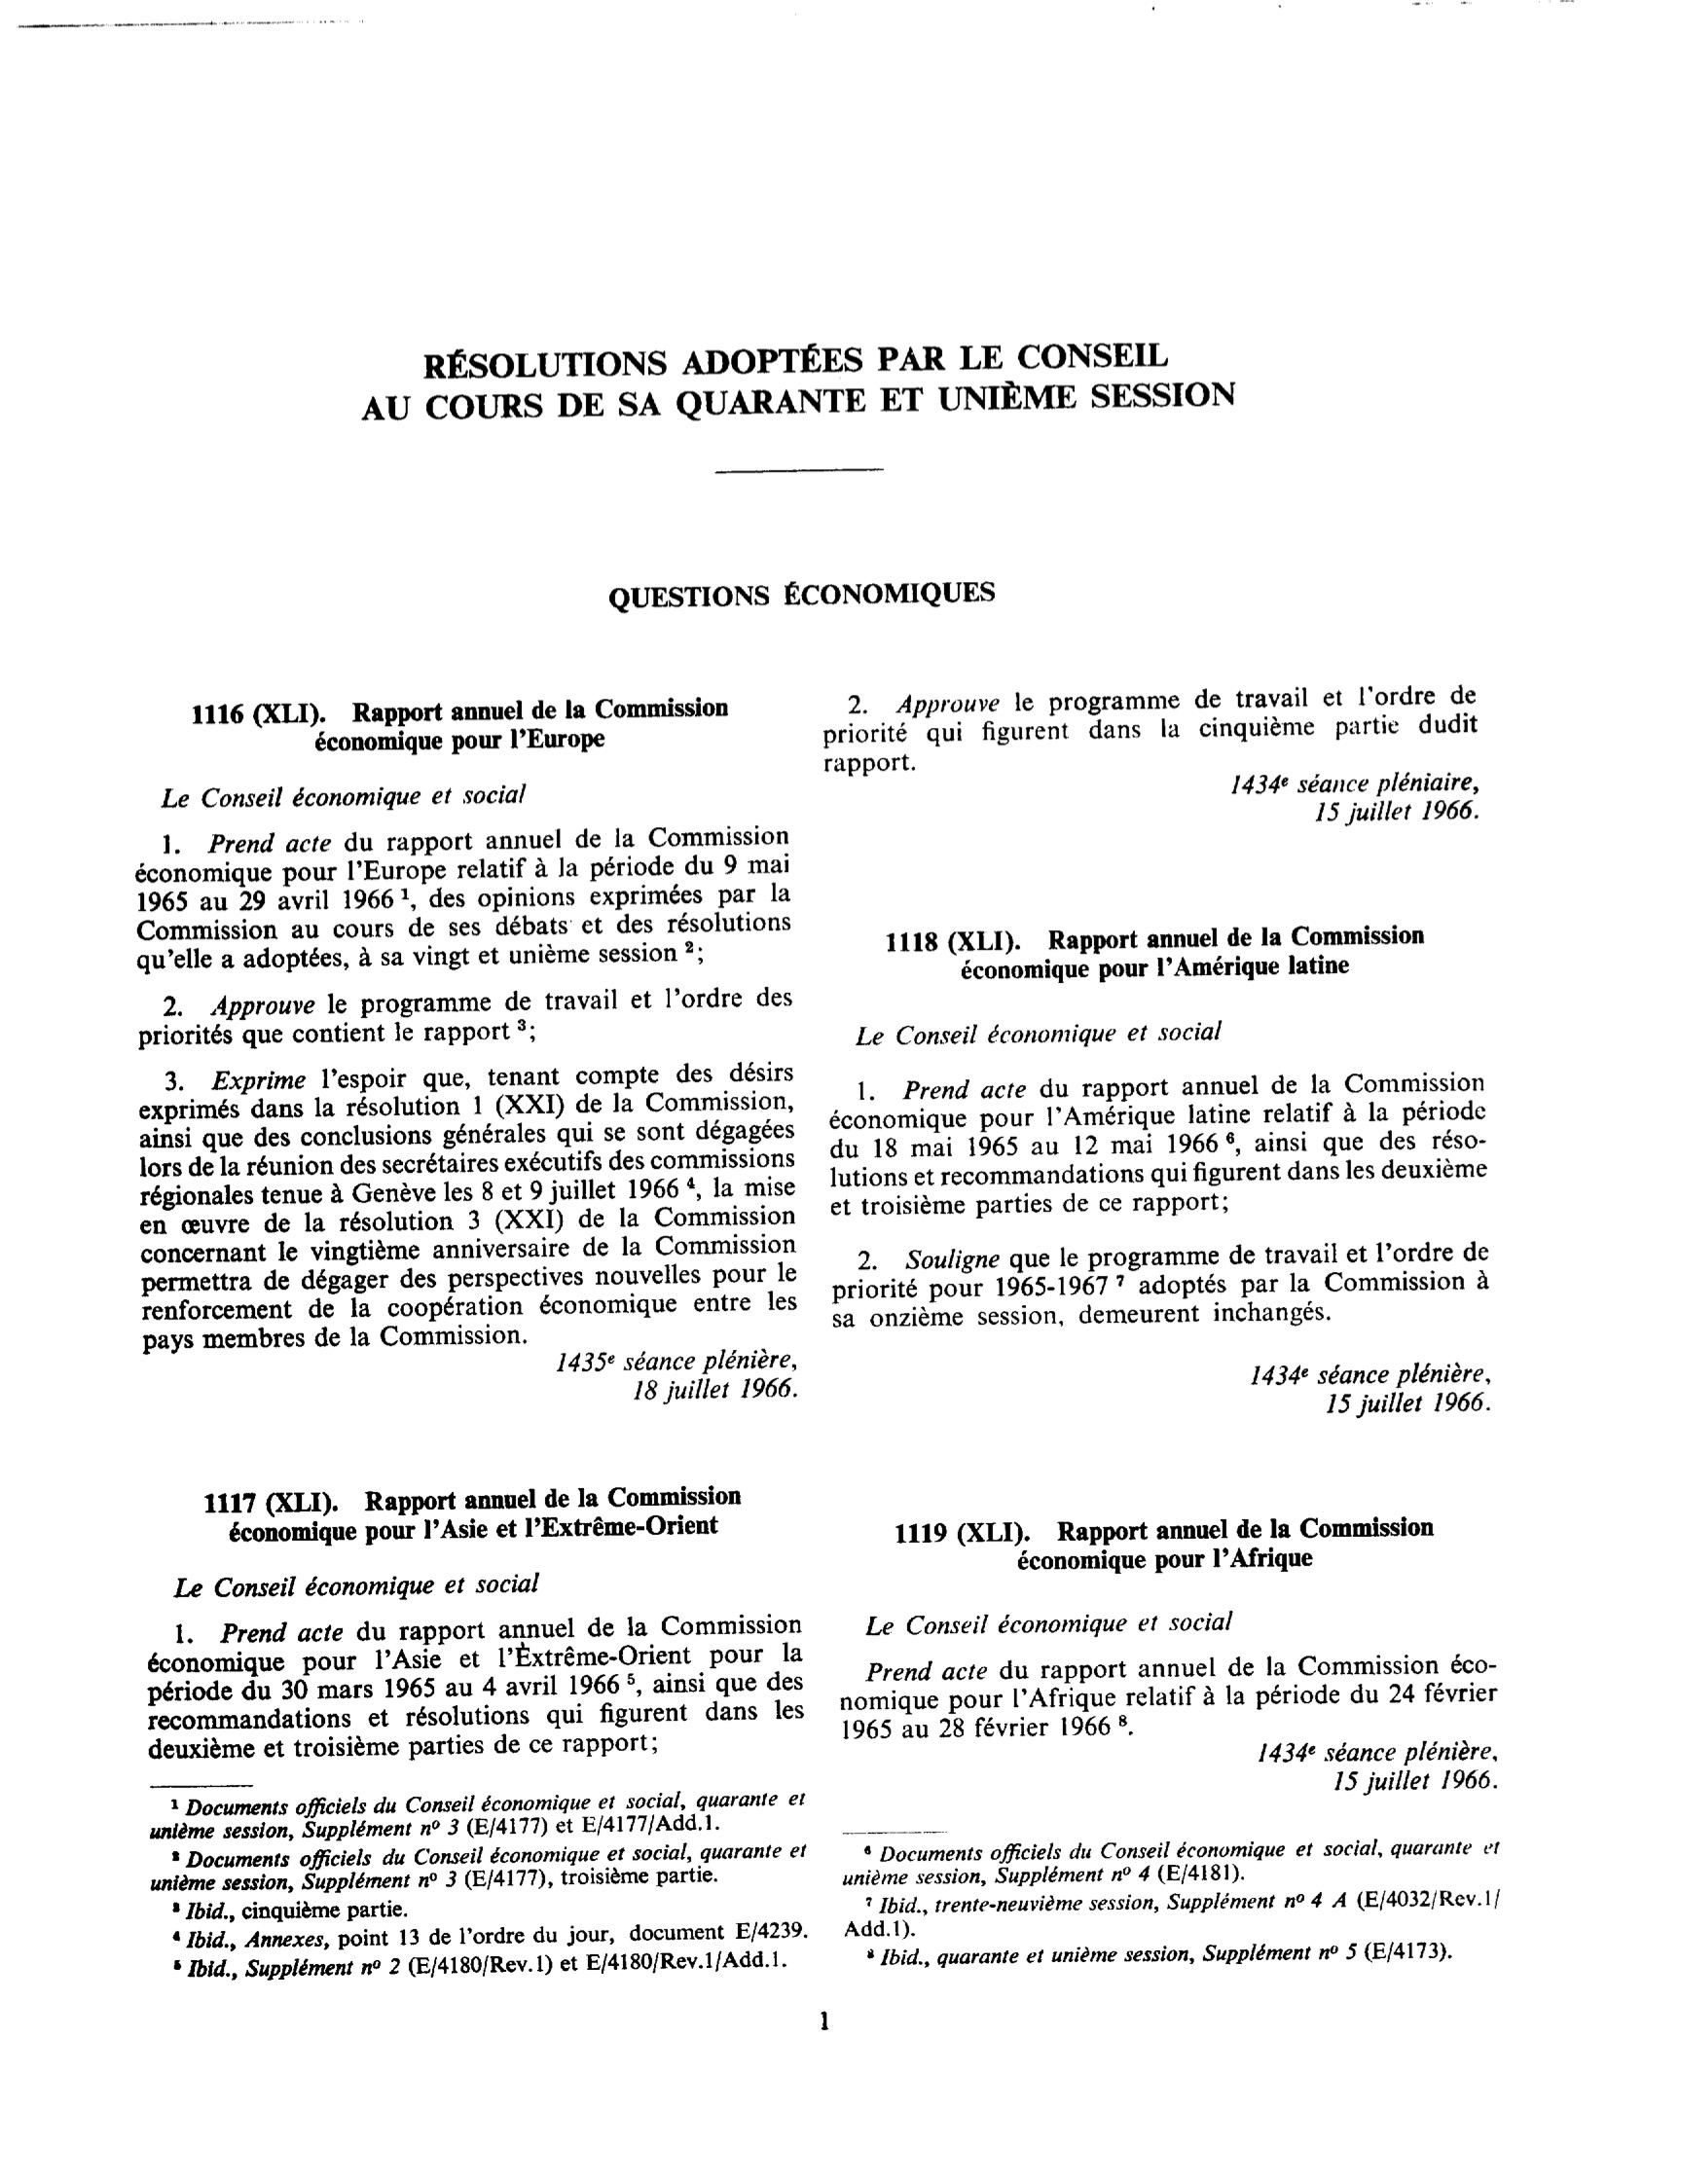MainZone-Date: (1305, 795, 1490, 828), (623, 1379, 810, 1410), (1333, 1768, 1494, 1800), (1309, 1400, 1500, 1423)
MainZone-Head: (344, 328, 1247, 433), (187, 1475, 752, 1551), (883, 1507, 1449, 1582), (873, 916, 1434, 991), (184, 688, 738, 760), (597, 568, 1007, 627)
MainZone-ListItem: (128, 1060, 805, 1355), (139, 1611, 811, 1767), (822, 1067, 1497, 1222), (128, 823, 799, 976), (823, 1238, 1498, 1337), (802, 680, 1491, 776), (129, 982, 800, 1054)
MainZone-P: (835, 1651, 1507, 1746), (140, 776, 539, 819), (146, 1564, 555, 1605), (840, 1012, 1234, 1053), (847, 1603, 1248, 1639)
MainZone-Signature: (1235, 1356, 1503, 1398), (541, 1345, 806, 1378), (1248, 1737, 1506, 1770), (1218, 773, 1500, 800)
MarginTextZone-Notes: (143, 1841, 813, 1920), (139, 1789, 815, 1843), (837, 1888, 1512, 1941), (833, 1838, 1507, 1885), (157, 1949, 814, 1986), (847, 1941, 1501, 1974), (154, 1920, 812, 1952)
NumberingZone: (812, 2003, 841, 2039)
